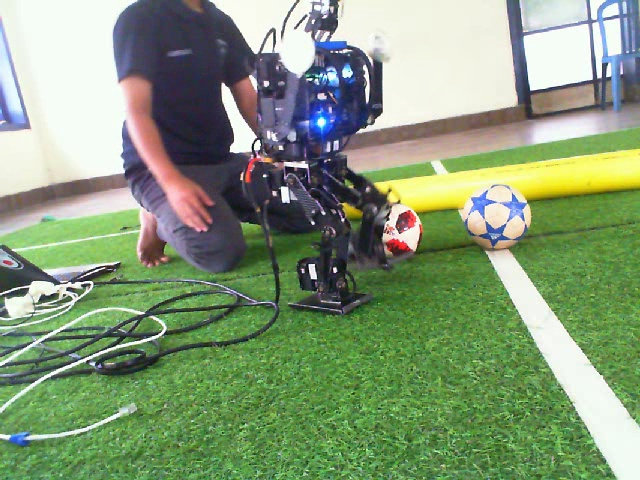ball: (460, 180, 533, 251), (381, 201, 425, 263)
